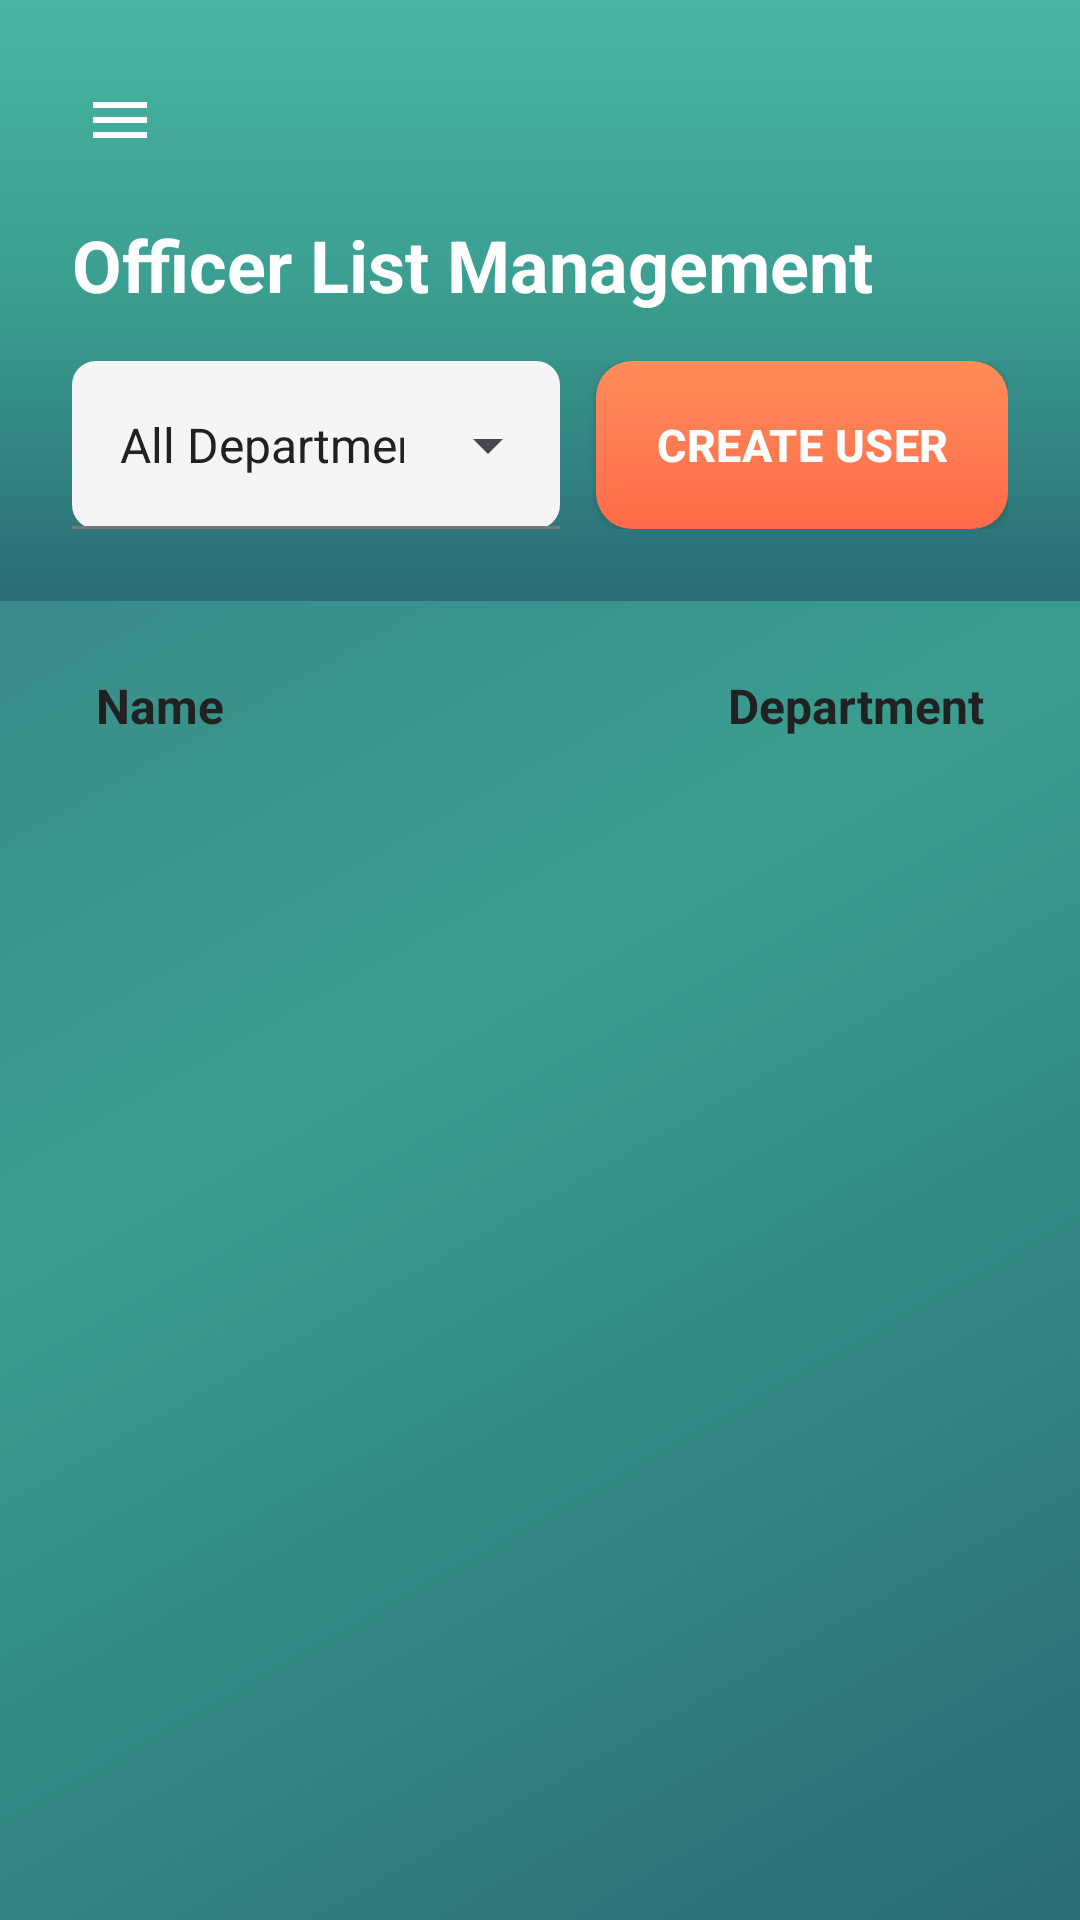

Screen size 1080*1920. Icon name, then its box in pixels as Rect(x1, y1, x2, y2):
Menu: Rect(93, 102, 147, 138)
